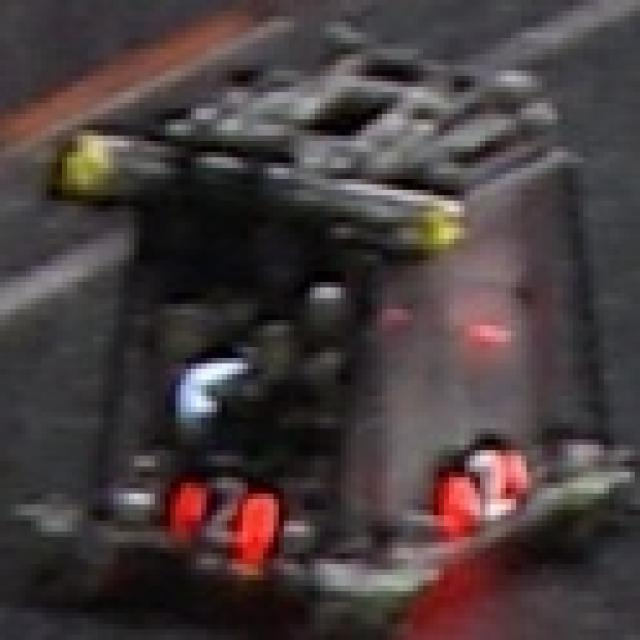R2: (162, 469, 286, 556), (426, 434, 529, 537)
